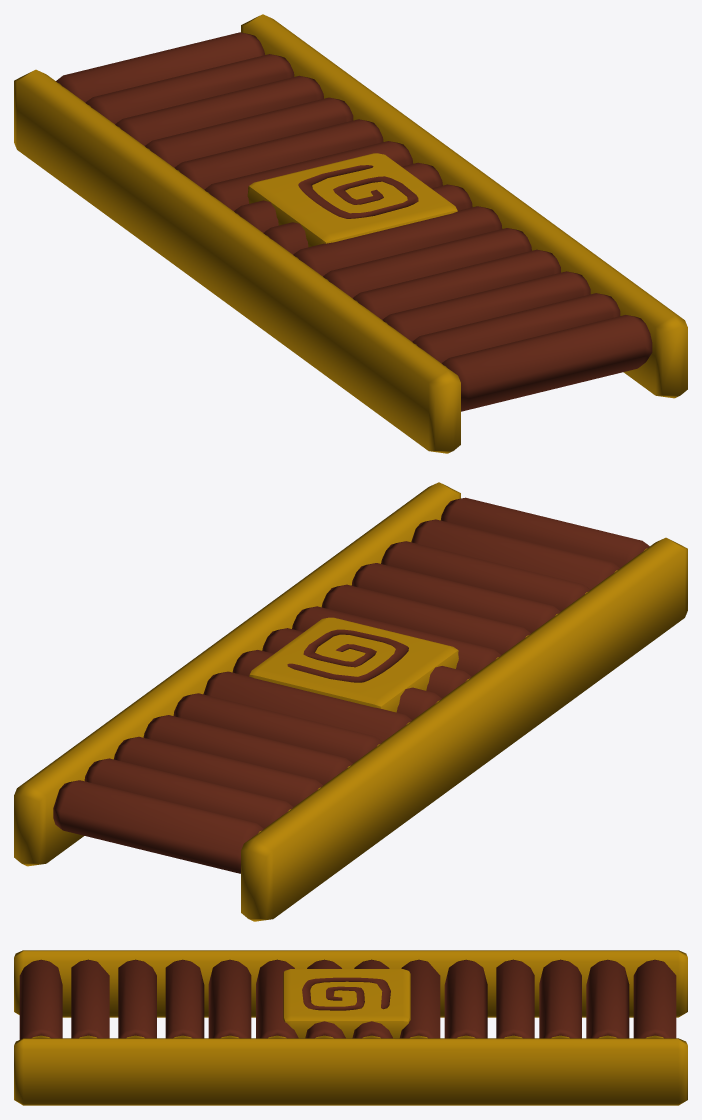
Rendered from BridgeLow.fbx.
3 renders of one model, top to bottom at view 1: azimuth 30°, elevation 25°; view 2: azimuth 150°, elevation 25°; view 3: azimuth 270°, elevation 25°, orthographic. The views are drawn at different scales.
Parts seen in each view (by area): view 1: Side4; view 2: Side4; view 3: Side4.
Boxes of the visible parts, box(x1,y1,x2,y2) form: Side4: box(14, 14, 687, 453); Side4: box(14, 482, 687, 921); Side4: box(14, 950, 687, 1105).
Bounding box in the file's own units: 3.36 × 1.08 × 9.63.
